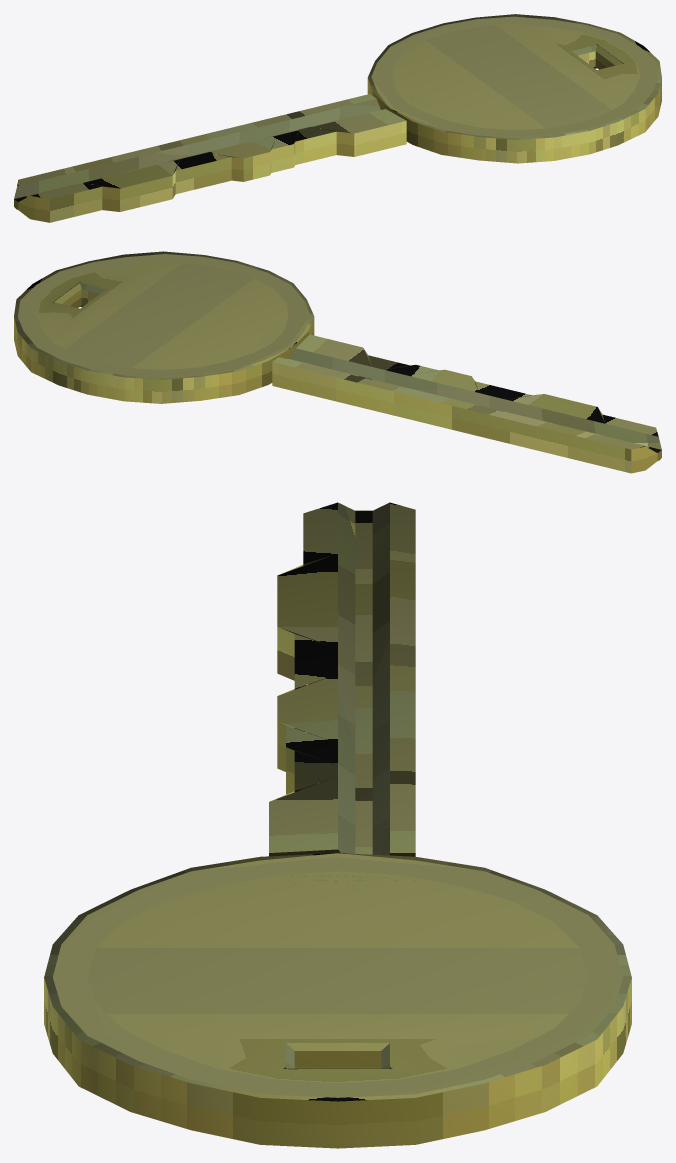
The model's file is PchrkeyyaleZ.obj.
3 renders of one model, top to bottom at view 1: azimuth 30°, elevation 25°; view 2: azimuth 150°, elevation 25°; view 3: azimuth 270°, elevation 25°, orthographic. The views are drawn at different scales.
Size of the model in its own units: 166 by 6 by 68.
Materials: 1 (1 with a texture image).
